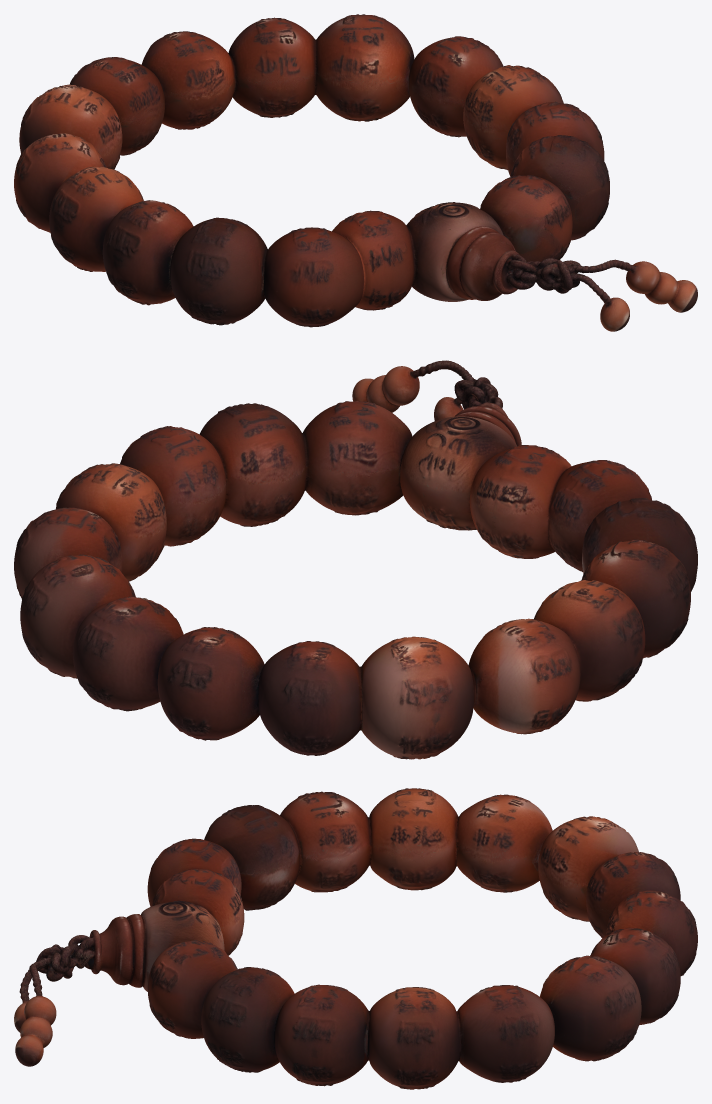
Rendered from wood_jujube.glb.
3 renders of one model, top to bottom at view 1: azimuth 30°, elevation 25°; view 2: azimuth 150°, elevation 25°; view 3: azimuth 270°, elevation 25°, orthographic. The views are drawn at different scales.
Visible parts, largest first — view 1: Mesh_0; view 2: Mesh_0; view 3: Mesh_0.
Boxes of the visible parts, x1=… form: Mesh_0: x1=14, y1=14, x2=697, y2=331; Mesh_0: x1=14, y1=360, x2=697, y2=759; Mesh_0: x1=14, y1=788, x2=697, y2=1089.
Bounding box in the file's own units: 0.3803 × 0.07 × 0.4588.
1 material, 1 textured.
